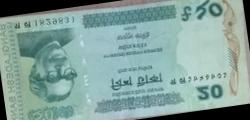20 taka: (7, 1, 241, 120)
